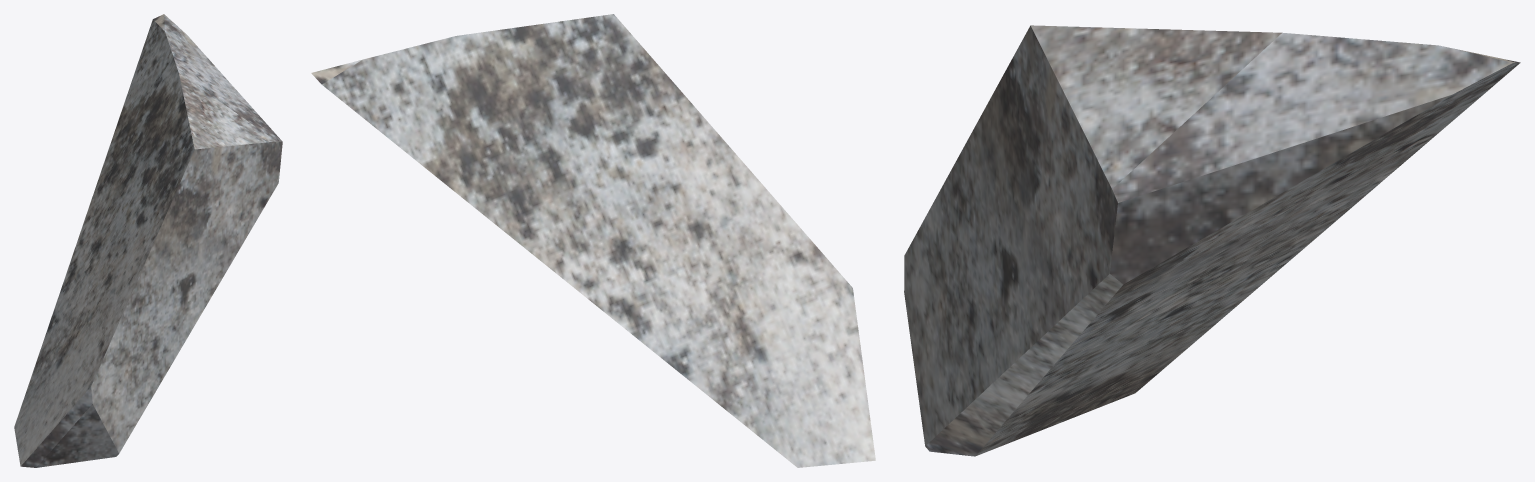
The model's file is Asteroid_Large_001_02_001_03_005.fbx.
3 views of the same model, side by side, from view 1: azimuth 30°, elevation 25°; view 2: azimuth 150°, elevation 25°; view 3: azimuth 270°, elevation 25° (orthographic). The views are drawn at different scales.
Parts seen in each view (by area): view 1: Asteroid_Large_001_02_001_03_005; view 2: Asteroid_Large_001_02_001_03_005; view 3: Asteroid_Large_001_02_001_03_005.
Part boxes in pixels (x1,y1,x2,y2): Asteroid_Large_001_02_001_03_005: [14, 14, 282, 467]; Asteroid_Large_001_02_001_03_005: [311, 14, 875, 467]; Asteroid_Large_001_02_001_03_005: [904, 25, 1520, 456].
Bounding box in the file's own units: 7.8 × 7.65 × 7.22.
